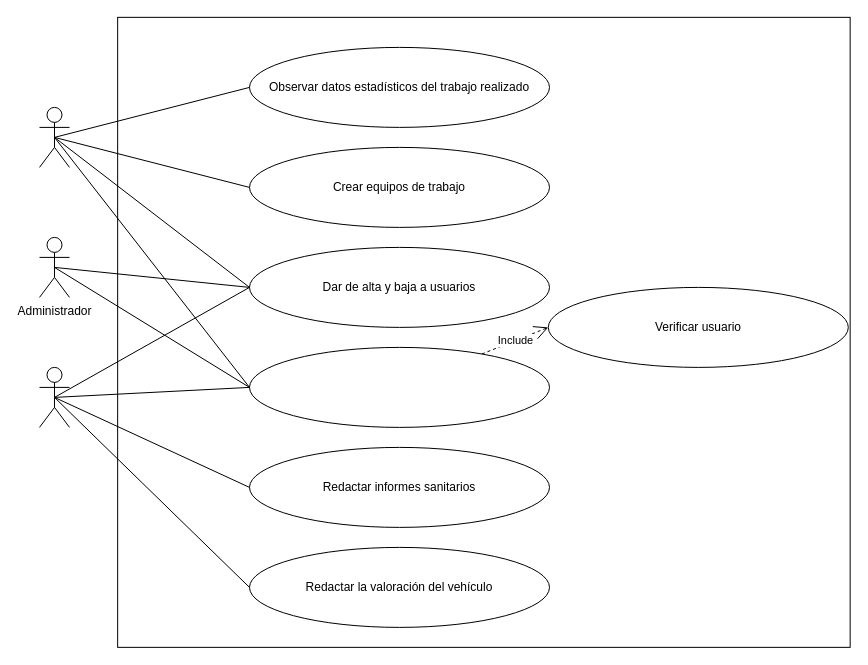
This 868x665 diagram has some shape labels left out. Each missing label, with the box of its shape:
Coordinador: (38, 106, 70, 167)
Login: (248, 346, 550, 427)
Sanitario: (38, 366, 70, 427)
